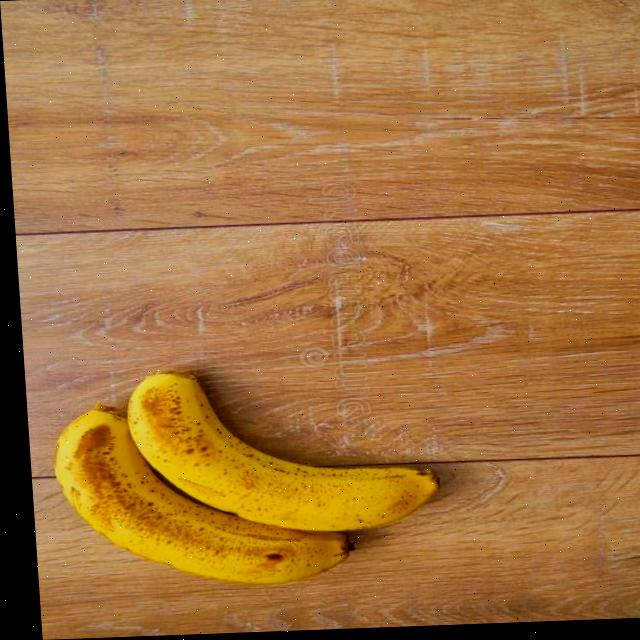banana: (45, 388, 359, 594), (114, 356, 451, 544)
